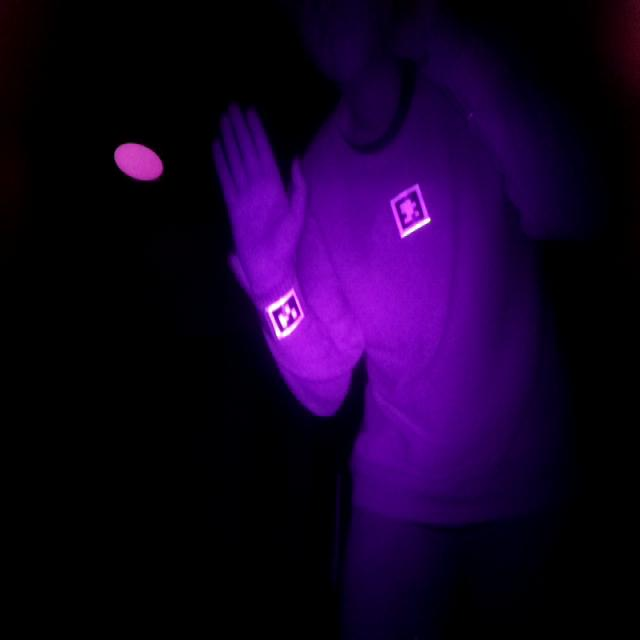Apriltags: (388, 185, 430, 237), (268, 289, 304, 337)
